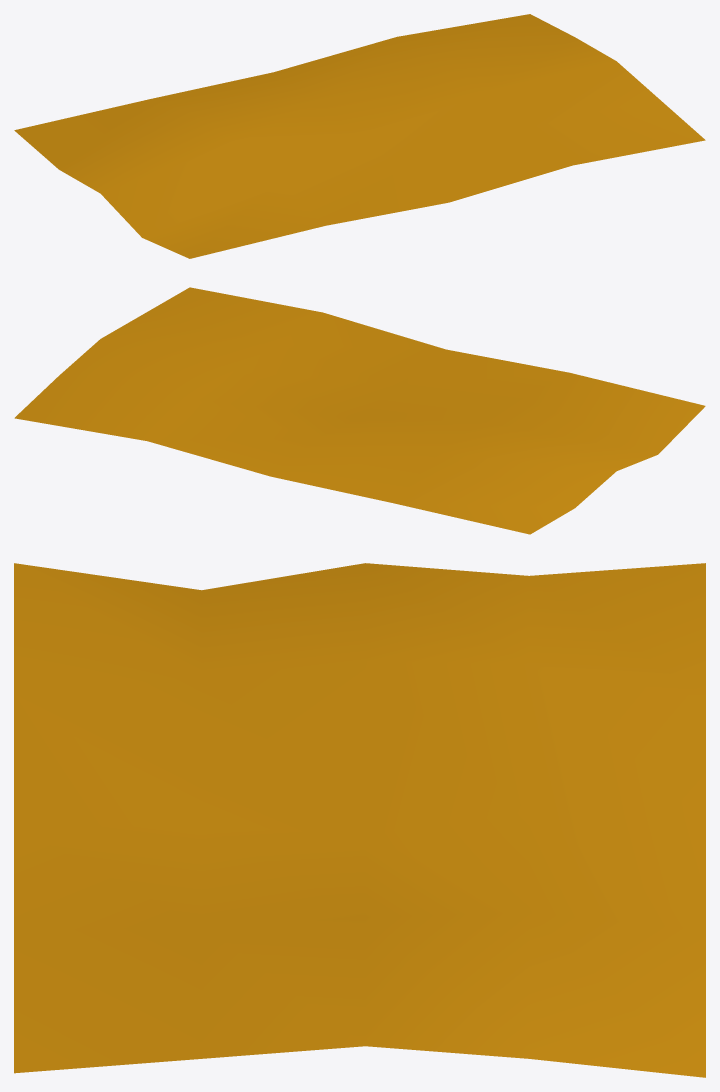
The model's file is coinsGold.FBX.
The picture shows the model from 3 angles, top to bottom: view 1: azimuth 30°, elevation 25°; view 2: azimuth 150°, elevation 25°; view 3: azimuth 270°, elevation 25°; orthographic projection. The views are drawn at different scales.
Parts seen in each view (by area): view 1: coinsGold; view 2: coinsGold; view 3: coinsGold.
Part boxes in pixels (x1,y1,x2,y2): coinsGold: (14,14,705,258); coinsGold: (14,287,705,534); coinsGold: (14,563,705,1077).
Size of the model in its own units: 53.32 by 2.98 by 31.45.
